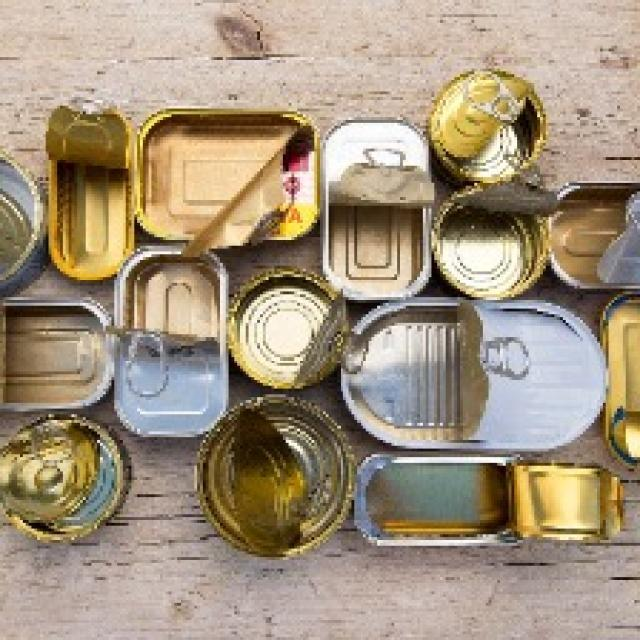metel: (340, 293, 612, 458), (178, 384, 368, 573), (137, 105, 326, 246), (359, 458, 629, 552), (114, 250, 228, 439), (324, 111, 434, 301), (1, 407, 145, 550), (46, 114, 145, 296), (419, 66, 552, 188), (1, 290, 118, 415), (546, 184, 640, 290)
